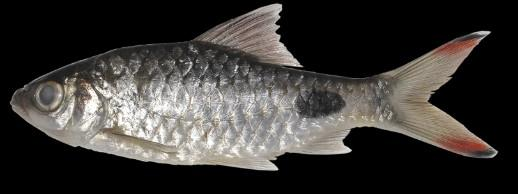Black Spotted Barb: (2, 2, 511, 174)
